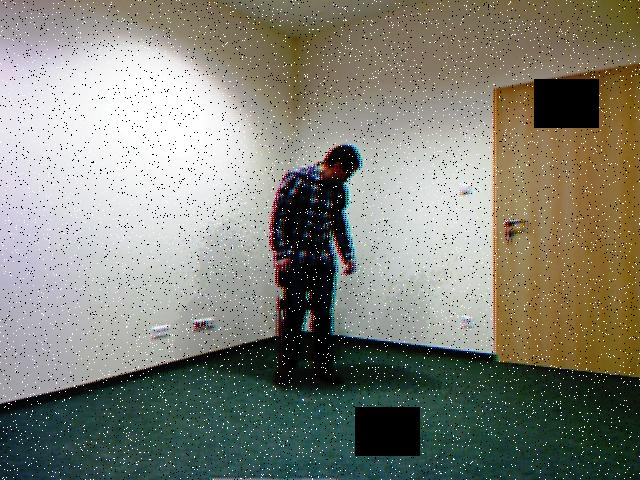walking: (256, 129, 370, 393)
